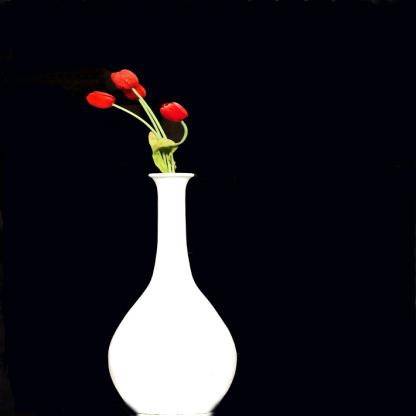vase: (107, 172, 238, 416)
